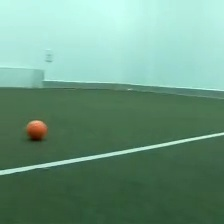ball: (24, 117, 49, 142)
goal: (1, 65, 46, 90)
